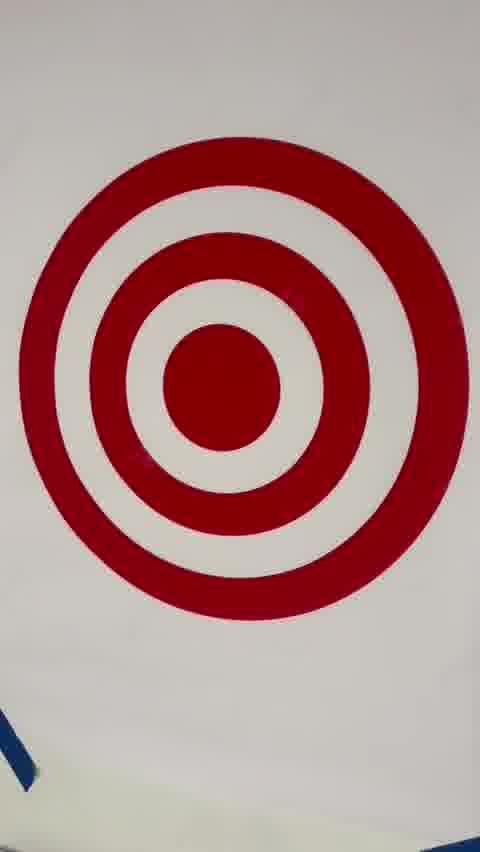target_red: (19, 138, 472, 624)
